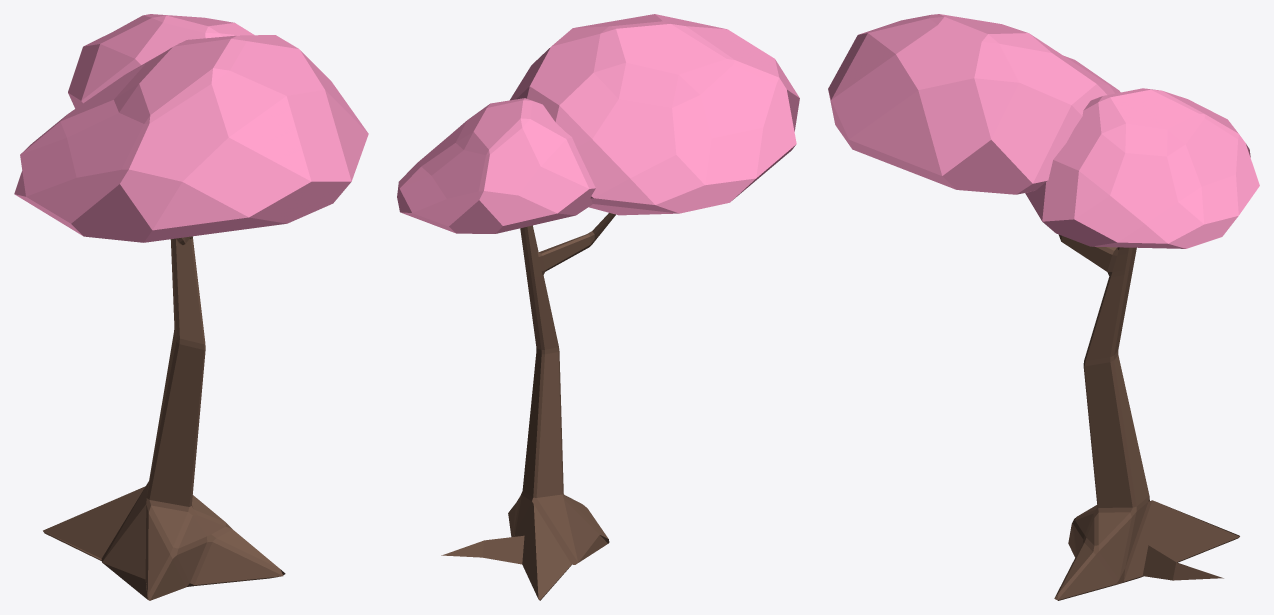
File: tree.fbx
3 renders of one model, left to right at view 1: azimuth 30°, elevation 25°; view 2: azimuth 150°, elevation 25°; view 3: azimuth 270°, elevation 25°, orthographic. The views are drawn at different scales.
Visible parts, largest first — view 1: Icosphere.001, Icosphere; view 2: Icosphere.001, Icosphere; view 3: Icosphere.001, Icosphere.
Part boxes in pixels (left/top/right/bottom): Icosphere.001: left=14, top=14, right=368, bottom=242; Icosphere: left=43, top=236, right=285, bottom=600; Icosphere.001: left=397, top=14, right=799, bottom=233; Icosphere: left=441, top=213, right=615, bottom=600; Icosphere.001: left=828, top=14, right=1259, bottom=248; Icosphere: left=1054, top=234, right=1239, bottom=600.
Bounding box in the file's own units: 791 × 1256 × 929.
